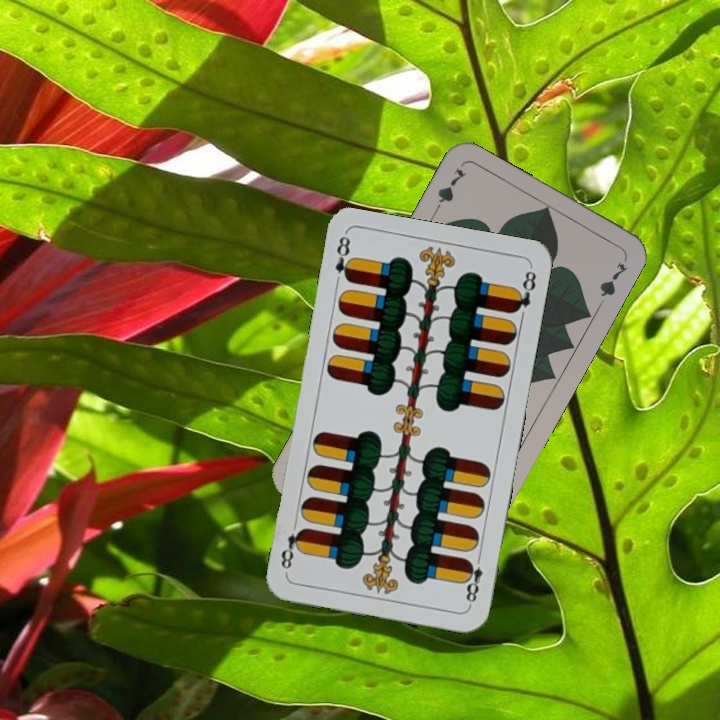E8: (331, 231, 357, 290), (460, 550, 486, 608)
G7: (429, 164, 470, 218)
